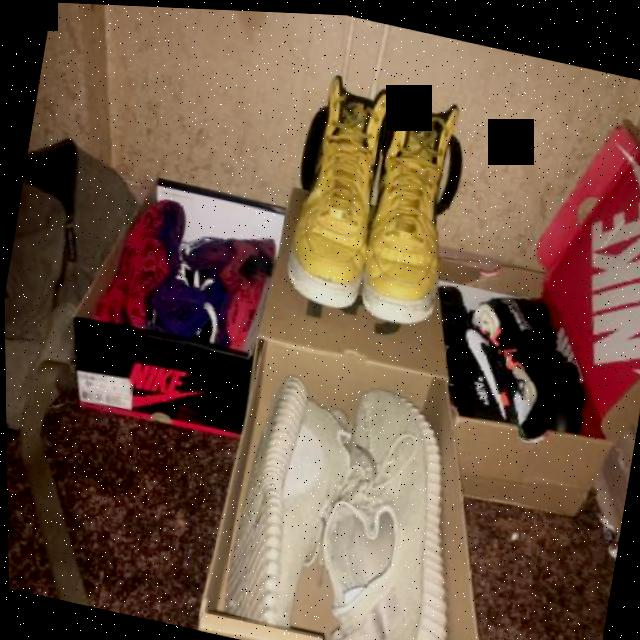shoes: (295, 367, 497, 640), (213, 354, 364, 635), (271, 60, 399, 326), (347, 84, 476, 346), (445, 265, 607, 445), (89, 182, 225, 349), (411, 259, 542, 422), (161, 204, 286, 362)
